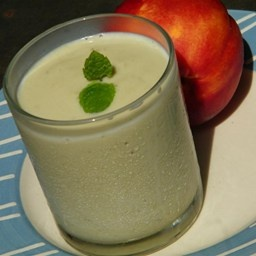background: (5, 0, 98, 97)
